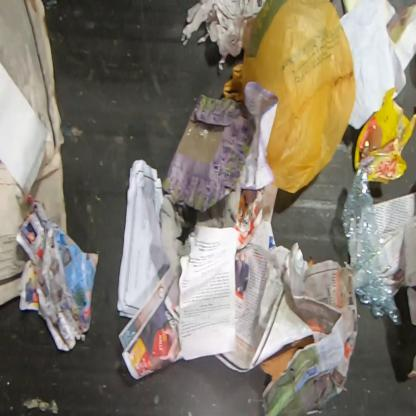cardboard: (162, 94, 254, 214), (260, 335, 314, 383)
rigid_plastic: (342, 154, 402, 326)
soft_plastic: (221, 0, 356, 196), (355, 87, 415, 183)
